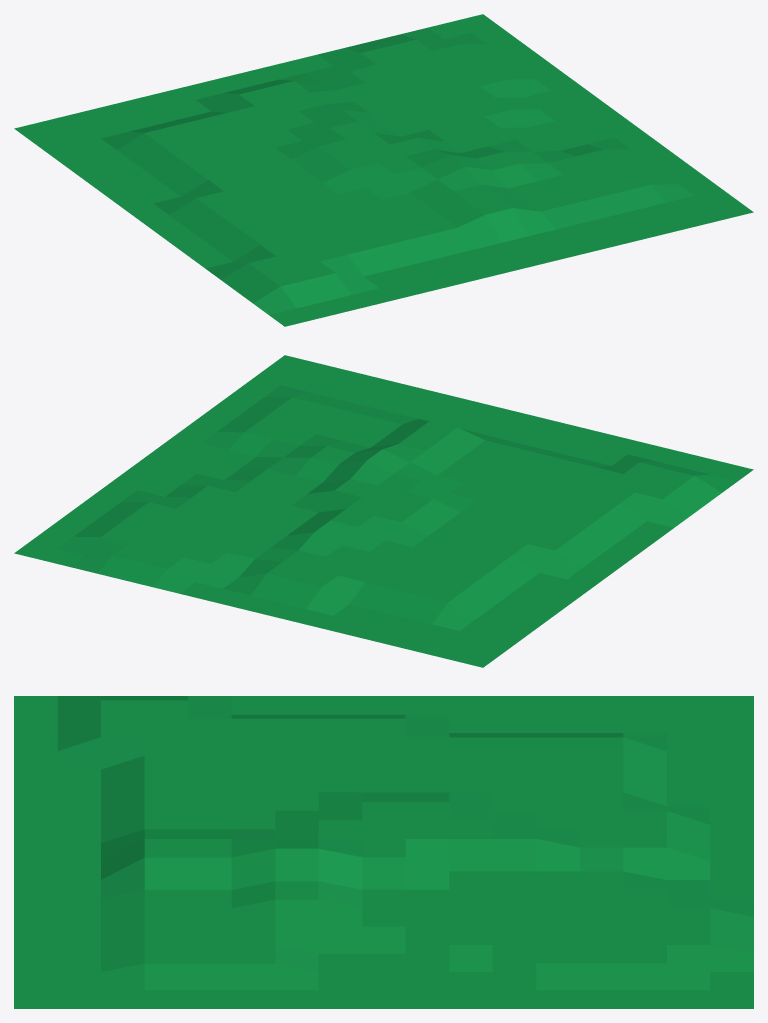
File: Hill.fbx
3 views of the same model, one above another, from view 1: azimuth 30°, elevation 25°; view 2: azimuth 150°, elevation 25°; view 3: azimuth 270°, elevation 25° (orthographic). The views are drawn at different scales.
Visible parts, largest first — view 1: Plane; view 2: Plane; view 3: Plane.
Boxes of the visible parts, <box> form: Plane: <box>14,14,753,326</box>; Plane: <box>14,355,753,667</box>; Plane: <box>14,696,753,1008</box>.
Size of the model in its own units: 80 by 3.73 by 80.
